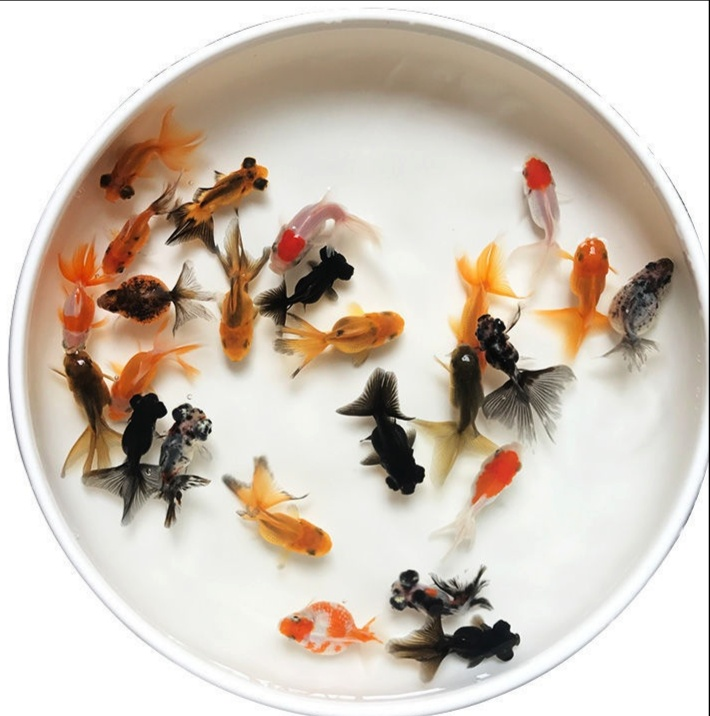fry: (340, 375, 433, 504), (227, 463, 337, 569), (267, 580, 381, 669), (608, 239, 684, 363), (373, 549, 497, 623), (155, 386, 222, 514), (503, 143, 577, 258), (390, 612, 528, 670), (257, 186, 349, 270), (431, 257, 504, 357), (208, 233, 262, 365), (114, 376, 170, 502), (292, 305, 413, 363), (170, 151, 263, 223), (37, 344, 113, 432), (466, 428, 536, 521), (95, 270, 207, 328), (96, 345, 191, 405), (269, 245, 358, 309), (83, 132, 157, 205), (563, 227, 611, 339), (473, 305, 539, 385), (439, 343, 492, 438), (80, 215, 152, 276), (54, 282, 95, 352)
